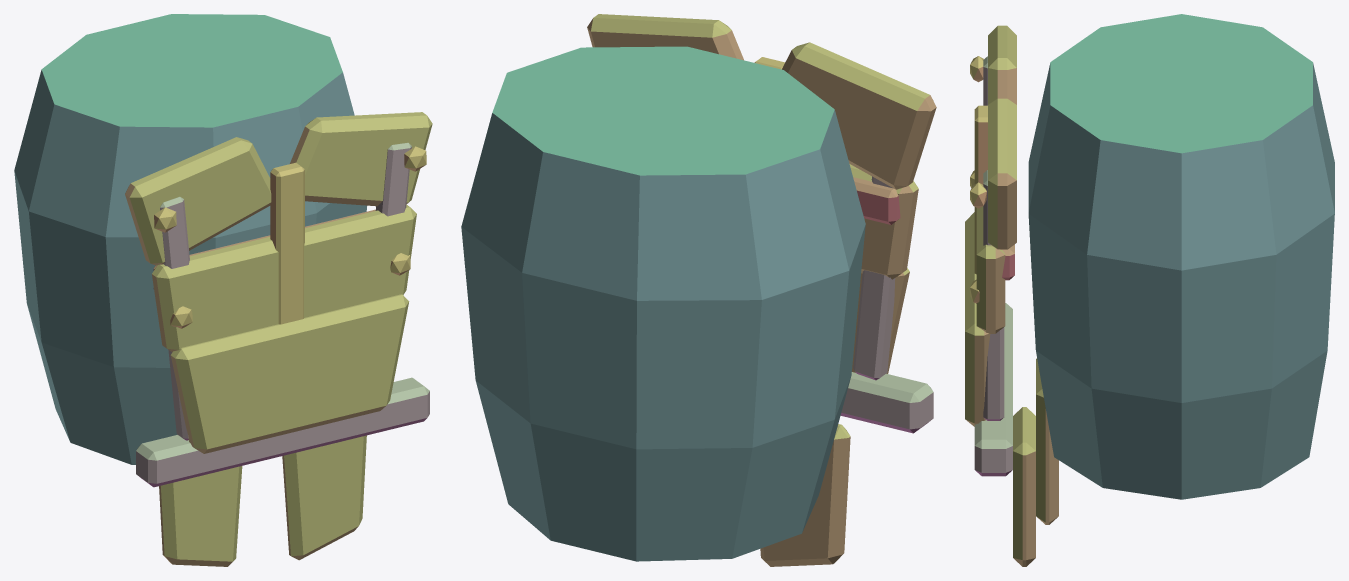
File: npc_module_chest_plate_v01.glb
3 views of the same model, side by side, from view 1: azimuth 30°, elevation 25°; view 2: azimuth 150°, elevation 25°; view 3: azimuth 270°, elevation 25° (orthographic). The views are drawn at different scales.
Parts seen in each view (by area): view 1: GEO_npc_module_chest_plate_v01; view 2: GEO_npc_module_chest_plate_v01; view 3: GEO_npc_module_chest_plate_v01.
Boxes of the visible parts, x1,y1,x2,y2 form: GEO_npc_module_chest_plate_v01: [14, 14, 432, 566]; GEO_npc_module_chest_plate_v01: [461, 14, 936, 566]; GEO_npc_module_chest_plate_v01: [965, 14, 1334, 566].
Size of the model in its own units: 1.02 by 1.33 by 0.9644.
